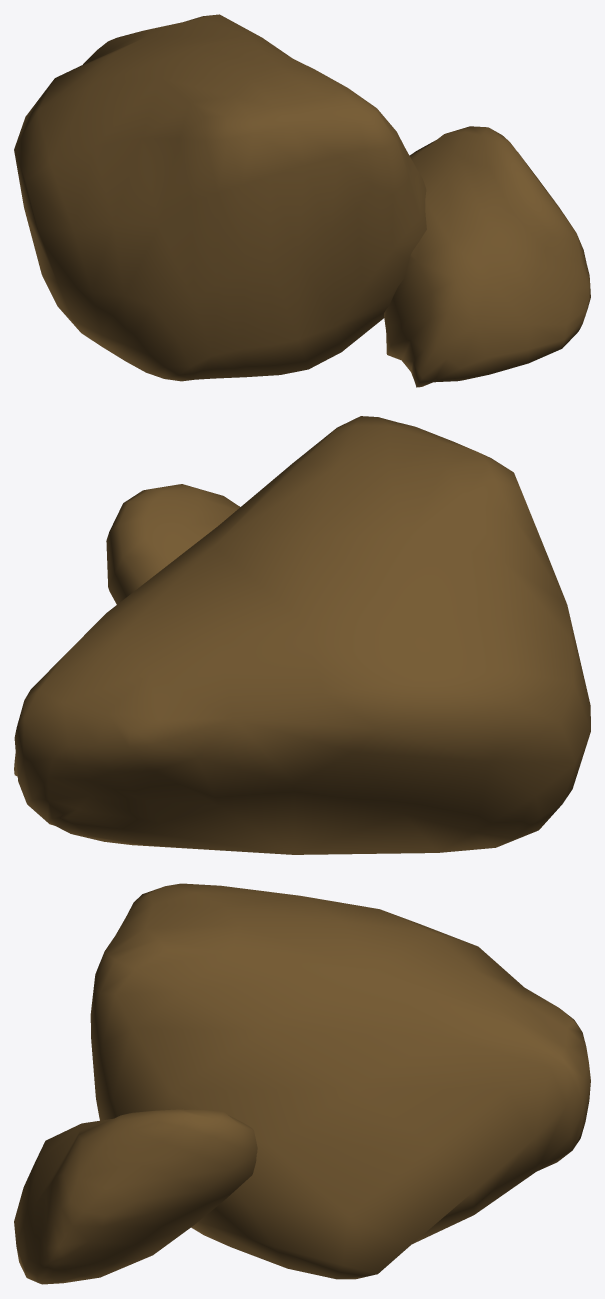
File: MediumMossyRock.fbx
3 renders of one model, top to bottom at view 1: azimuth 30°, elevation 25°; view 2: azimuth 150°, elevation 25°; view 3: azimuth 270°, elevation 25°, orthographic. The views are drawn at different scales.
Parts seen in each view (by area): view 1: PedraMediaMusgo; view 2: PedraMediaMusgo; view 3: PedraMediaMusgo.
Boxes of the visible parts, x1,y1,x2,y2 form: PedraMediaMusgo: (14, 14, 590, 387); PedraMediaMusgo: (14, 416, 590, 854); PedraMediaMusgo: (14, 883, 590, 1284).
Bounding box in the file's own units: 155 × 91.25 × 172.
